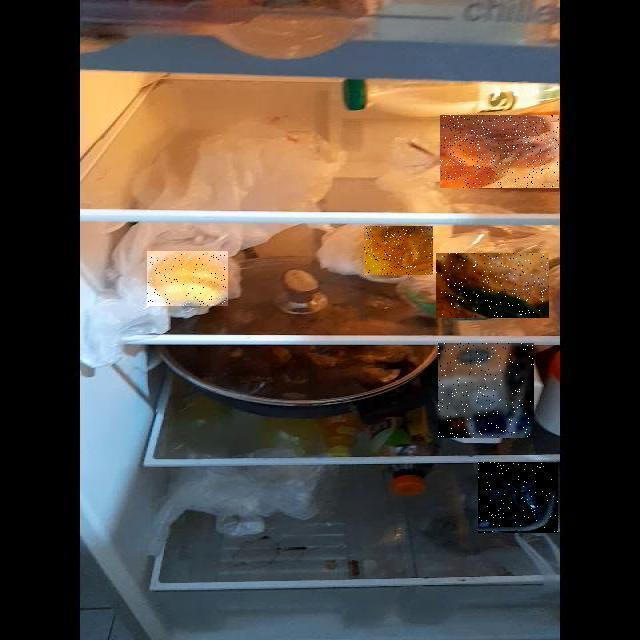Broccoli: (479, 462, 559, 533)
Carrot: (440, 115, 559, 188)
Chillies: (436, 253, 549, 318)
Lemon: (147, 251, 228, 306), (364, 226, 433, 275)
Milk: (439, 343, 535, 438)
